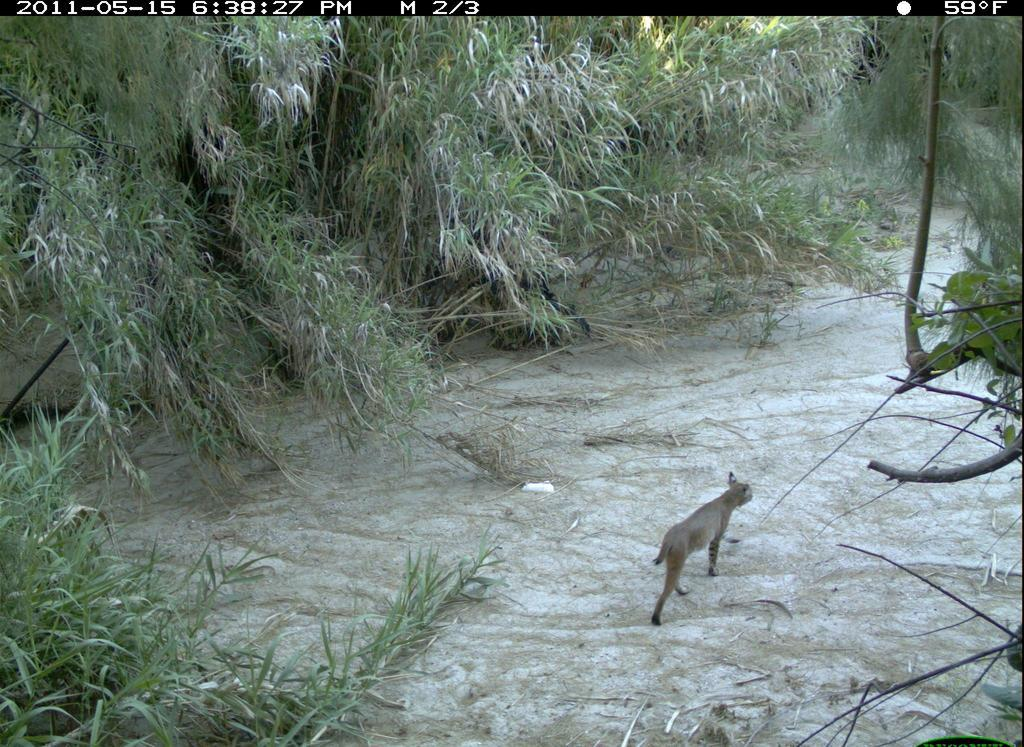bobcat: (646, 463, 753, 629)
